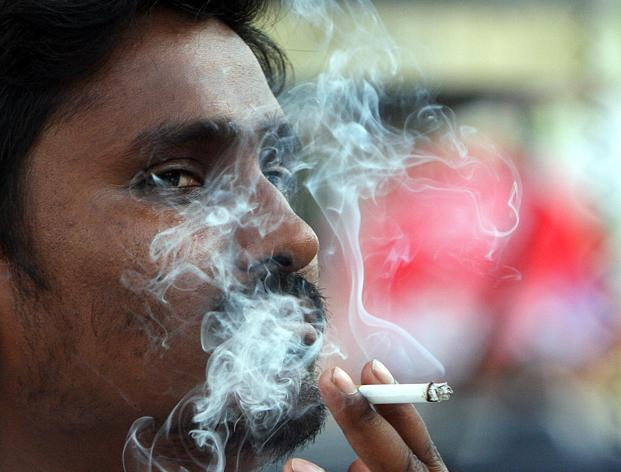cigarette: (332, 366, 455, 413)
